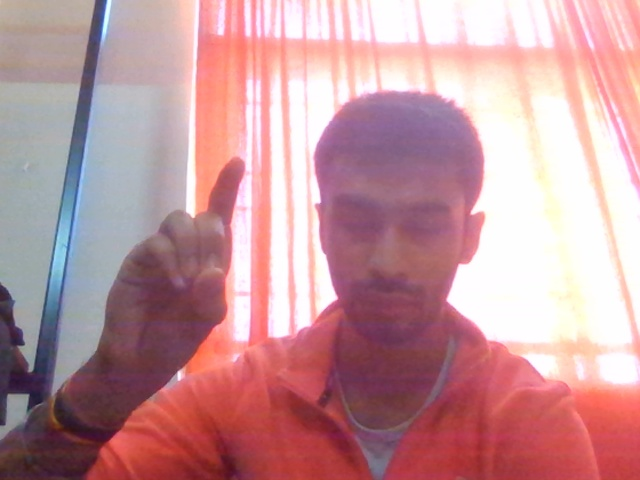D: (94, 155, 259, 409)
